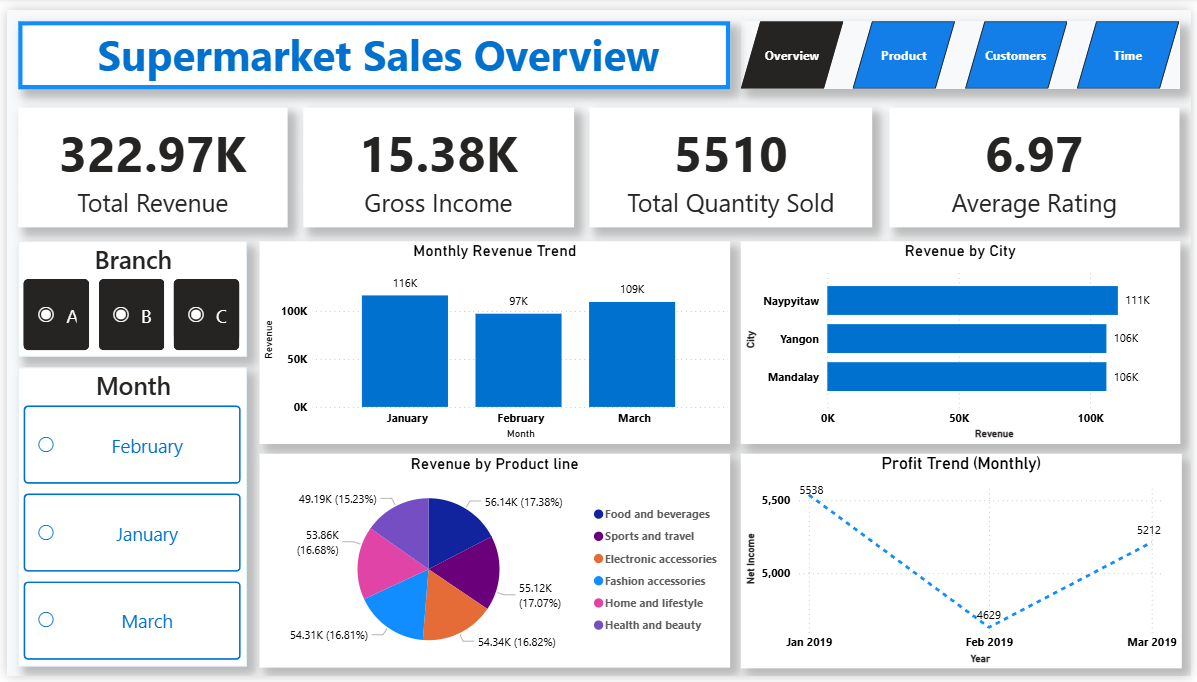

This screenshot's page, from the dashboard's own definition file:
{"tool":"powerbi","page":{"name":"Overview","canvas":[1280,720],"ordinal":0},"visuals":[{"type":"card","fields":{"Values":["Sum(WalmartSalesData csv.Total Revenue)"]},"box":[11.8,105.9,291.2,129.4],"z":0},{"type":"card","fields":{"Values":["Sum(WalmartSalesData csv.gross income)"]},"box":[320.6,105.9,292.6,129.4],"z":1000},{"type":"card","fields":{"Values":["Sum(WalmartSalesData csv.Quantity)"]},"box":[629.4,105.9,305.9,129.4],"z":2000},{"type":"card","fields":{"Values":["Avg(WalmartSalesData csv.Rating)"]},"box":[954.4,105.9,313.2,129.4],"z":3000},{"type":"advancedSlicerVisual","fields":{"Values":["WalmartSalesData csv.Branch"]},"box":[11.8,250,247.1,125],"z":4000},{"type":"advancedSlicerVisual","title":"Month","fields":{"Values":["WalmartSalesData.Month Name"]},"box":[11.8,386.8,247.1,323.5],"z":5000},{"type":"columnChart","title":"Monthly Revenue Trend","fields":{"Y":["Sum(WalmartSalesData.Total Revenue)"],"Category":["WalmartSalesData.Month Name"]},"box":[273.5,250,508.8,219.1],"z":6000},{"type":"barChart","title":"Revenue by City","fields":{"Category":["WalmartSalesData.City"],"Y":["Sum(WalmartSalesData.Total Revenue)"]},"box":[792.6,250,475,219.1],"z":7000},{"type":"pieChart","title":"Revenue by Product line","fields":{"Y":["Sum(WalmartSalesData.Total Revenue)"],"Category":["WalmartSalesData.Product line"]},"box":[273.5,479.4,508.8,230.9],"z":8000},{"type":"lineChart","title":"Profit Trend (Monthly)","fields":{"Y":["Sum(WalmartSalesData.gross income)"],"Category":["WalmartSalesData.Date.Variation.Date Hierarchy.Year","WalmartSalesData.Date.Variation.Date Hierarchy.Quarter","WalmartSalesData.Date.Variation.Date Hierarchy.Month","WalmartSalesData.Date.Variation.Date Hierarchy.Day"]},"box":[792.6,479.4,476.5,232.4],"z":9000},{"type":"pageNavigator","box":[793.1,12.5,475,73.6],"z":10000},{"type":"textbox","title":"Supermarket Sales Overview","box":[12.5,12.5,769.4,73.6],"z":11000}]}

Visuals, with their boxes in screenshot pixels (x1, y1, x2, y2), scaled from the page's 1280x720 canvas onto the 1197x682 screenshot:
card - Sum(WalmartSalesData csv.Total Revenue): left=11, top=100, right=283, bottom=223
card - Sum(WalmartSalesData csv.gross income): left=300, top=100, right=573, bottom=223
card - Sum(WalmartSalesData csv.Quantity): left=589, top=100, right=875, bottom=223
card - Avg(WalmartSalesData csv.Rating): left=893, top=100, right=1185, bottom=223
advancedSlicerVisual - WalmartSalesData csv.Branch: left=11, top=237, right=242, bottom=355
"Month" advancedSlicerVisual: left=11, top=366, right=242, bottom=673
"Monthly Revenue Trend" columnChart: left=256, top=237, right=732, bottom=444
"Revenue by City" barChart: left=741, top=237, right=1185, bottom=444
"Revenue by Product line" pieChart: left=256, top=454, right=732, bottom=673
"Profit Trend (Monthly)" lineChart: left=741, top=454, right=1187, bottom=674
pageNavigator: left=742, top=12, right=1186, bottom=82
"Supermarket Sales Overview" textbox: left=12, top=12, right=731, bottom=82
